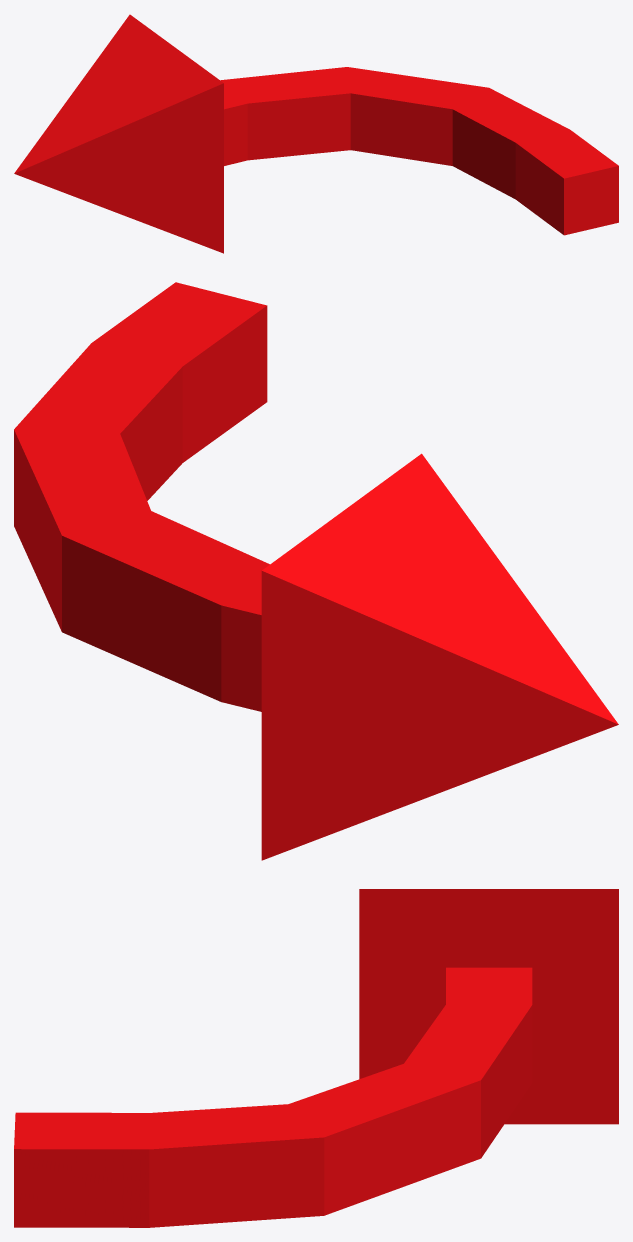
Rendered from ArrowLeftTurn.glb.
3 views of the same model, one above another, from view 1: azimuth 30°, elevation 25°; view 2: azimuth 150°, elevation 25°; view 3: azimuth 270°, elevation 25° (orthographic). The views are drawn at different scales.
Parts seen in each view (by area): view 1: Cube; view 2: Cube; view 3: Cube.
Boxes of the visible parts, x1,y1,x2,y2 form: Cube: (14,14,618,253); Cube: (14,282,618,860); Cube: (14,889,618,1227).
Size of the model in its own units: 3.19 by 1.2 by 2.8.
